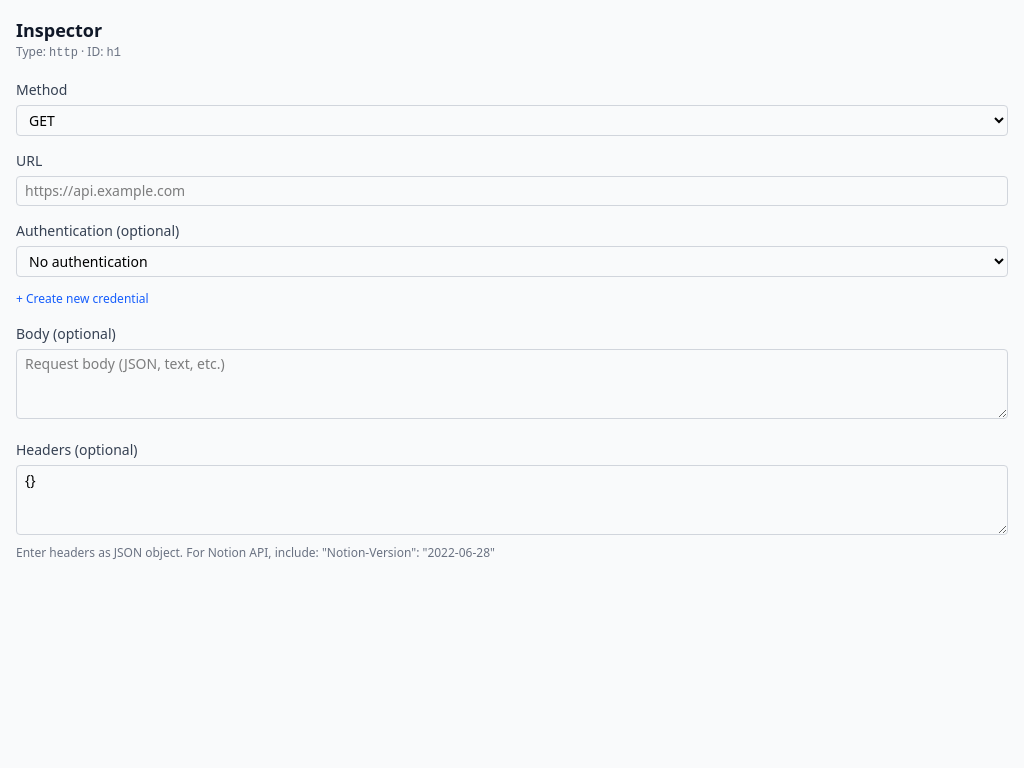
Test: Inspector (shell) › shows inline URL error on invalid input
The image size is (1024, 768).
Enter invalid URL
Type "not-a-valid-url" into the field with placeholder "https://api.example.com". click: {"x": 512, "y": 191}
box: [16,176,1008,206]
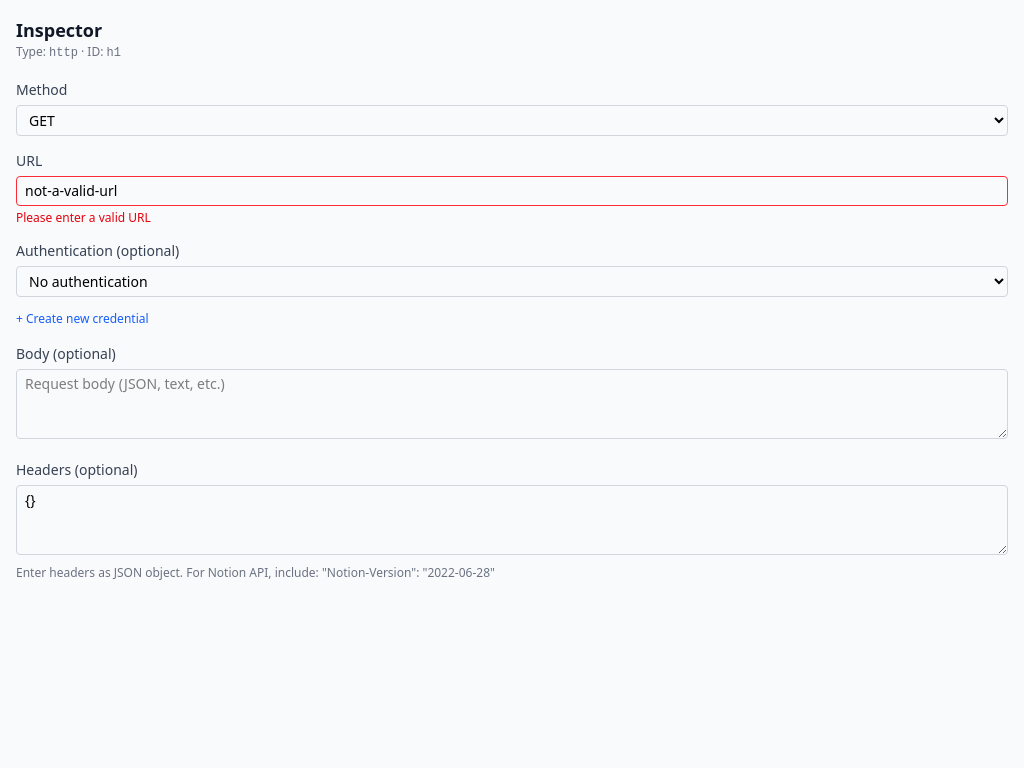
Expected: the text "Please enter a valid URL" is shown, [16,209,151,226]
